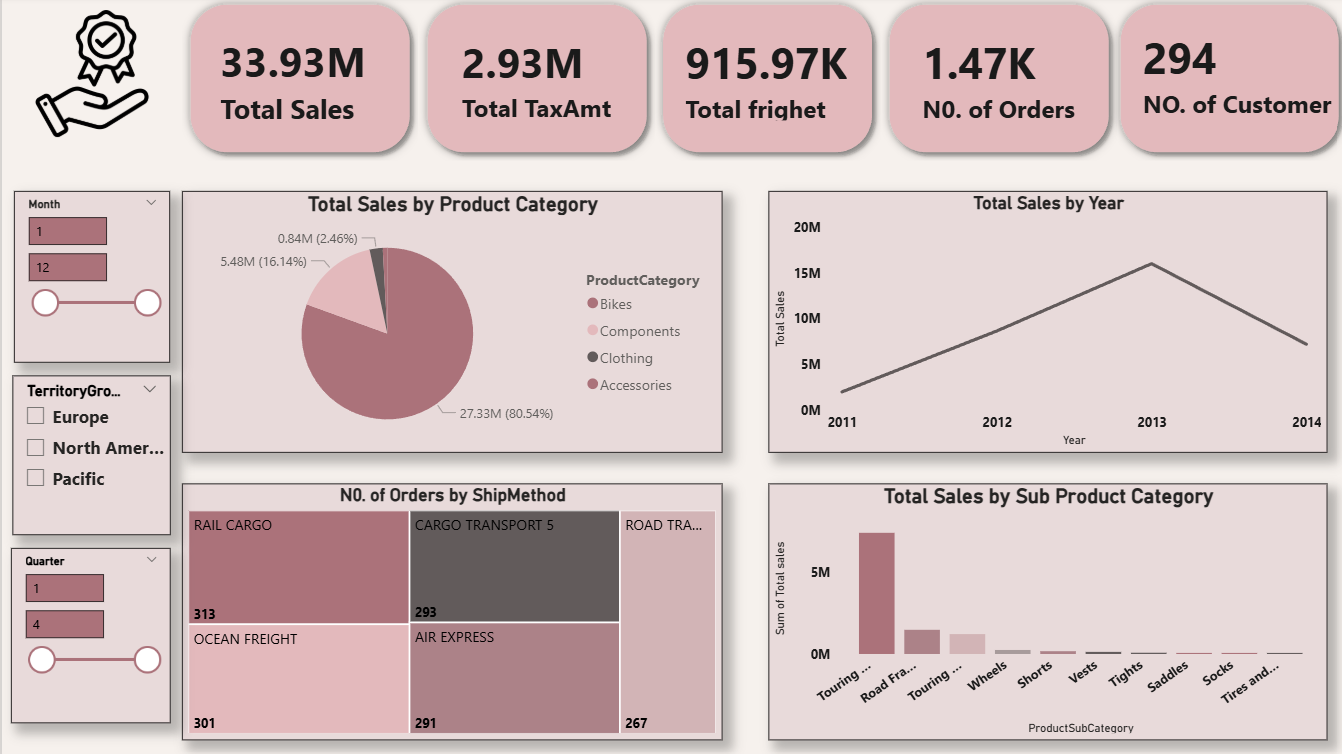

This screenshot's page, from the dashboard's own definition file:
{"tool":"powerbi","page":{"name":"Dashboard","canvas":[1280,720],"ordinal":0},"visuals":[{"type":"shape","box":[169.4,0,222.1,155],"z":0},{"type":"cardVisual","fields":{"Data":["Dim Customer.Total Sales"]},"box":[175.7,20.8,201.3,113.4],"z":1000},{"type":"shape","box":[391.4,0,222.1,155],"z":2000},{"type":"shape","box":[613.5,0,212.5,155],"z":3000},{"type":"shape","box":[826,0,222.1,155],"z":4000},{"type":"shape","box":[1043.3,0,222.1,155],"z":5000},{"type":"cardVisual","fields":{"Data":["NUM of Customer.Total TaxAmt"]},"box":[402.6,20.8,201.3,113.4],"z":6000},{"type":"cardVisual","fields":{"Data":["Dim Customer.Total frighet"]},"box":[613.5,20.8,212.5,113.4],"z":7000},{"type":"cardVisual","fields":{"Data":["Dim Customer.NUM of Orders"]},"box":[835.6,20.8,222.1,113.4],"z":8000},{"type":"cardVisual","fields":{"Data":["NUM of Customer.NUM of Customer"]},"box":[1043.3,11.2,236.5,123],"z":9000},{"type":"pieChart","title":"Total Sales by Product Category","fields":{"Category":["Dim Product.ProductCategory"],"Y":["Sum(fact_Sales.Total sales)"]},"box":[169.4,183.7,508.1,246],"z":10000},{"type":"lineChart","fields":{"Y":["Dim Customer.Total Sales"],"Category":["Dim Date.Year"]},"box":[720.5,183.7,525.6,246],"z":11000},{"type":"treemap","fields":{"Group":["Dim ShipMethod.ShipMethod"],"Values":["Dim Customer.N0. of Orders"]},"box":[169.4,458.5,508.1,241.2],"z":12000},{"type":"columnChart","title":"Total Sales by Sub Product Category","fields":{"Y":["Sum(fact_Sales.Total sales)"],"Category":["Dim Product.ProductSubCategory"]},"box":[720.5,458.5,525.6,241.2],"z":13000},{"type":"image","box":[0,11.2,169.4,123],"z":13001},{"type":"slicer","fields":{"Values":["Dim Date.Month"]},"box":[11.2,183.7,147,161.4],"z":13002},{"type":"slicer","fields":{"Values":["Dim Territory.TerritoryGroup"]},"box":[9.6,356.3,148.6,150.2],"z":13003},{"type":"slicer","fields":{"Values":["Dim Date.Quarter"]},"box":[8,519.2,150.2,164.6],"z":13004}]}

Visuals, with their boxes in screenshot pixels (x1, y1, x2, y2), scaled from the page's 1280x720 canvas onto the 1342x754 screenshot:
shape: BBox(178, 0, 410, 162)
cardVisual - Dim Customer.Total Sales: BBox(184, 22, 395, 141)
shape: BBox(410, 0, 643, 162)
shape: BBox(643, 0, 866, 162)
shape: BBox(866, 0, 1099, 162)
shape: BBox(1094, 0, 1327, 162)
cardVisual - NUM of Customer.Total TaxAmt: BBox(422, 22, 633, 141)
cardVisual - Dim Customer.Total frighet: BBox(643, 22, 866, 141)
cardVisual - Dim Customer.NUM of Orders: BBox(876, 22, 1109, 141)
cardVisual - NUM of Customer.NUM of Customer: BBox(1094, 12, 1341, 141)
"Total Sales by Product Category" pieChart: BBox(178, 192, 710, 450)
lineChart - Dim Customer.Total Sales x Dim Date.Year: BBox(755, 192, 1306, 450)
treemap - Dim ShipMethod.ShipMethod x Dim Customer.N0. of Orders: BBox(178, 480, 710, 733)
"Total Sales by Sub Product Category" columnChart: BBox(755, 480, 1306, 733)
image: BBox(0, 12, 178, 141)
slicer - Dim Date.Month: BBox(12, 192, 166, 361)
slicer - Dim Territory.TerritoryGroup: BBox(10, 373, 166, 530)
slicer - Dim Date.Quarter: BBox(8, 544, 166, 716)
